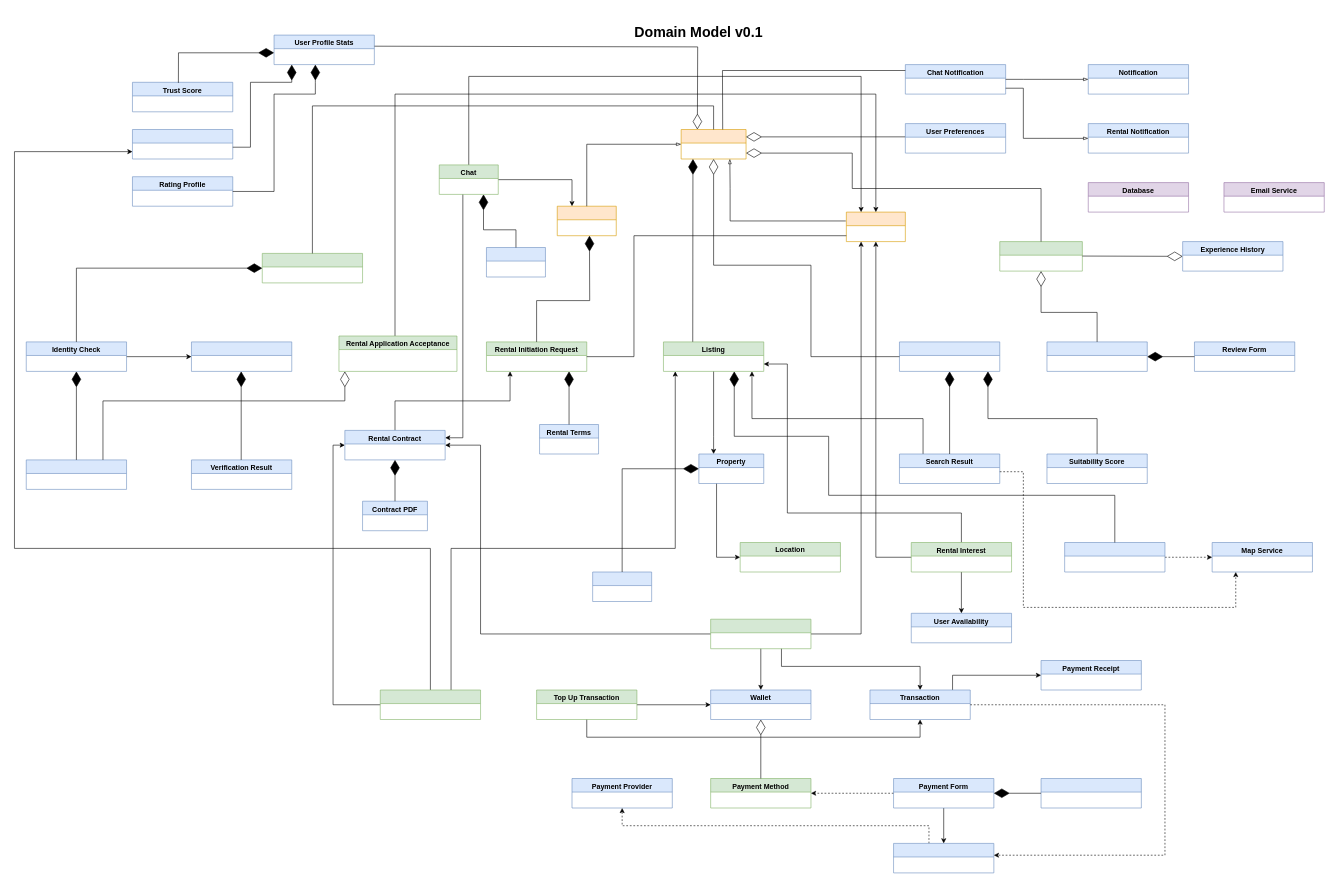
This 1335x883 diagram has some shape labels left out. Here are the shapes that lost their labels. From the top down, the centre of each, then its label:
point (182, 144): Reliability Score
point (713, 144): User
point (586, 221): Owner
point (875, 227): Tenant
point (312, 268): Account Verification
point (515, 262): Message
point (1040, 256): Experience
point (241, 356): Identity Provider
point (949, 356): Search Criteria
point (1096, 356): Review
point (76, 474): Submitted Document
point (1114, 557): Address Suggestion
point (622, 586): Photo
point (760, 634): Rent Payment
point (430, 704): Rental Termination
point (1090, 793): Card Details
point (943, 858): Peyment Authorization
